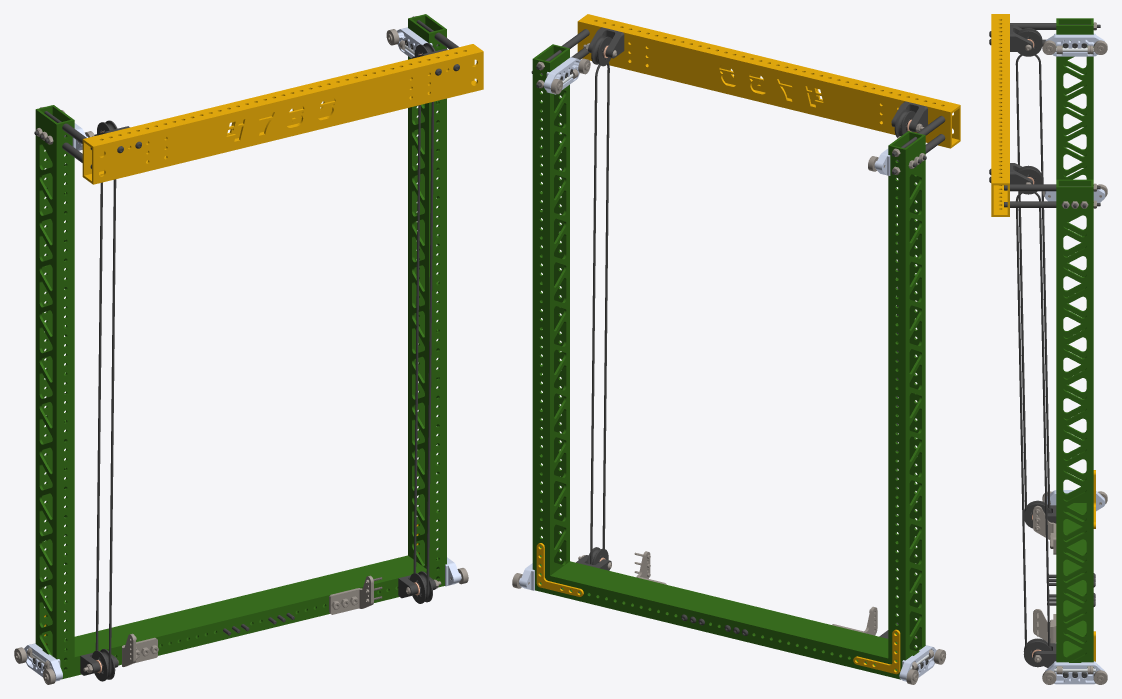
3 views of the same model, side by side, from view 1: azimuth 30°, elevation 25°; view 2: azimuth 150°, elevation 25°; view 3: azimuth 270°, elevation 25° (orthographic). The views are drawn at different scales.
Parts seen in each view (by area): view 1: (3) 1st V tube (×2), (3) 1st Upper H tube, (3) 1st H tube, (3) String 2 (×2), WCP-0583-025 Rev1, WCP-0583-026 Rev1; view 2: (3) 1st V tube (×2), (3) 1st Upper H tube, (3) 1st H tube, (3) String 2, Elevator Gusset (×2); view 3: (3) 1st V tube (×2), (3) String 2 (×2), (3) 1st Upper H tube, WCP-0897-001 Rev1 (×4), (3) 1st H tube, WCP-0096 (×4), Cascade Pulley Block (WCP-0298) (×3), Aluminum Spacers (.196" ID x 3/8" OD x 2" WD) (5-Pack) (WCP- (×3), WCP-0583-025 Rev1, WCP-0583-026 Rev1.
Boxes of the visible parts, box(x1,y1,x2,y2) form: (3) 1st V tube (×2): box(35, 14, 446, 679); (3) 1st Upper H tube: box(82, 44, 483, 184); (3) 1st H tube: box(64, 555, 426, 675); (3) String 2 (×2): box(95, 101, 433, 678); WCP-0583-025 Rev1: box(329, 575, 373, 614); WCP-0583-026 Rev1: box(122, 633, 157, 666); (3) 1st V tube (×2): box(532, 44, 925, 679); (3) 1st Upper H tube: box(577, 14, 960, 148); (3) 1st H tube: box(550, 561, 888, 676); (3) String 2: box(590, 63, 609, 564); Elevator Gusset (×2): box(536, 543, 900, 674); (3) 1st V tube (×2): box(1056, 18, 1093, 667); (3) String 2 (×2): box(1015, 54, 1050, 648); (3) 1st Upper H tube: box(991, 14, 1009, 216); WCP-0897-001 Rev1 (×4): box(1044, 33, 1105, 684); (3) 1st H tube: box(1063, 503, 1086, 656); WCP-0096 (×4): box(1018, 31, 1050, 667); Cascade Pulley Block (WCP-0298) (×3): box(1010, 25, 1056, 667); Aluminum Spacers (.196" ID x 3/8" OD x 2" WD) (5-Pack) (WCP- (×3): box(1019, 23, 1056, 207); WCP-0583-025 Rev1: box(1033, 609, 1056, 643); WCP-0583-026 Rev1: box(1033, 505, 1056, 554).
Size of the model in its own units: 0.5877 by 0.7493 by 0.1613.
